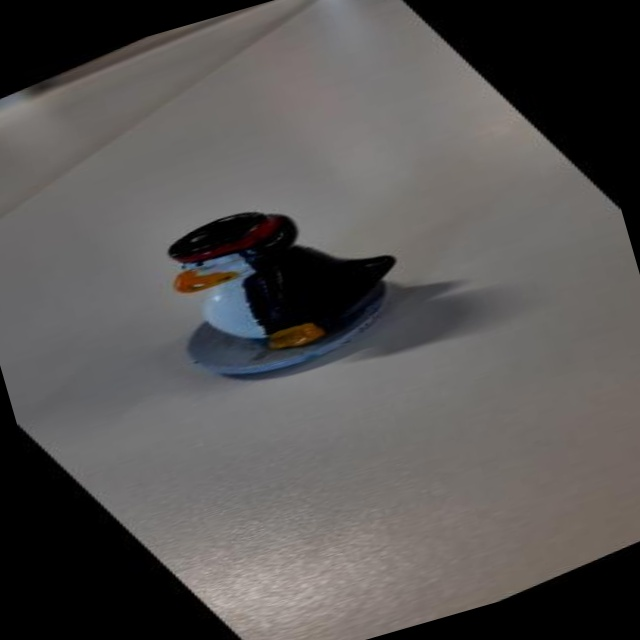Penguin: (47, 121, 479, 446)
